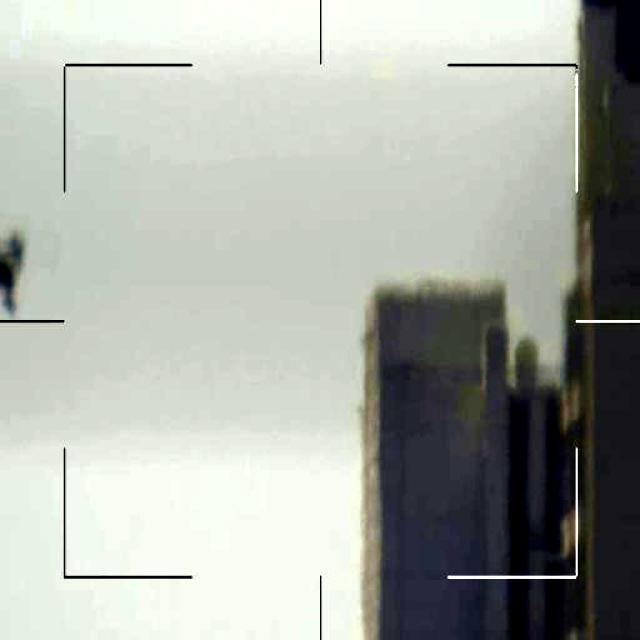bird: (0, 225, 29, 311)
